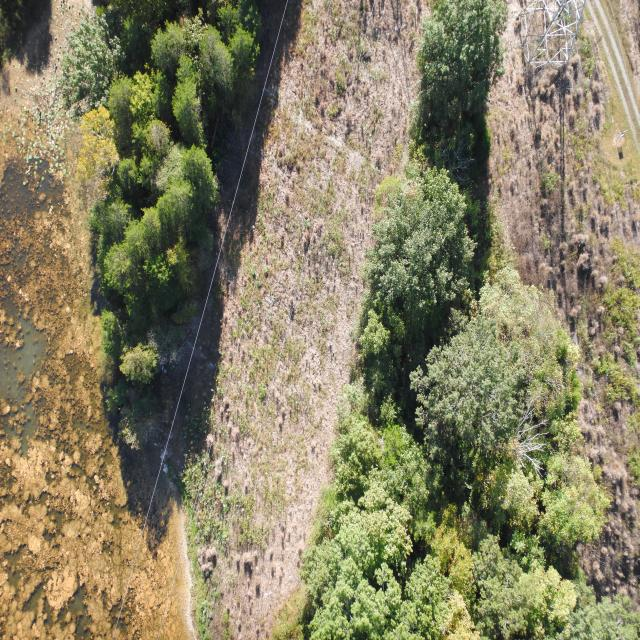Area of Interest: (311, 0, 632, 629), (122, 0, 258, 429)
